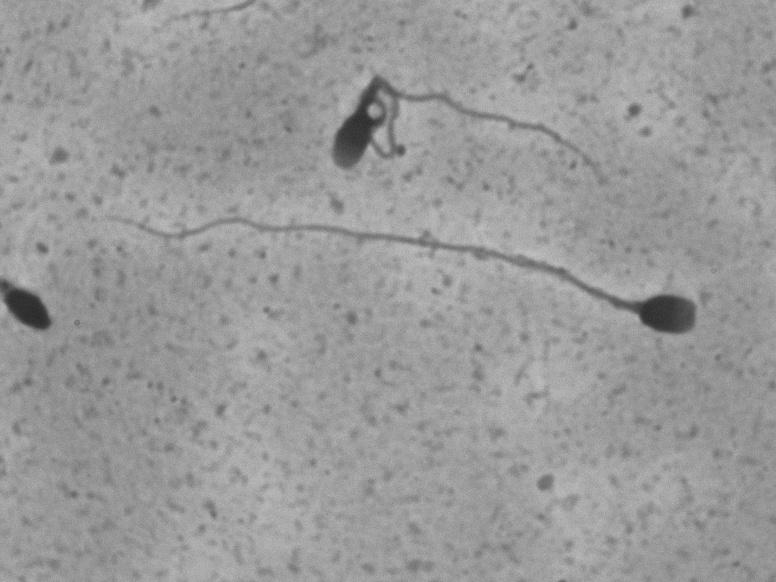Abnormal: (298, 45, 622, 205)
Normal: (72, 193, 724, 395)
